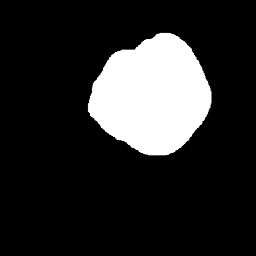mass: (75, 28, 216, 168)
